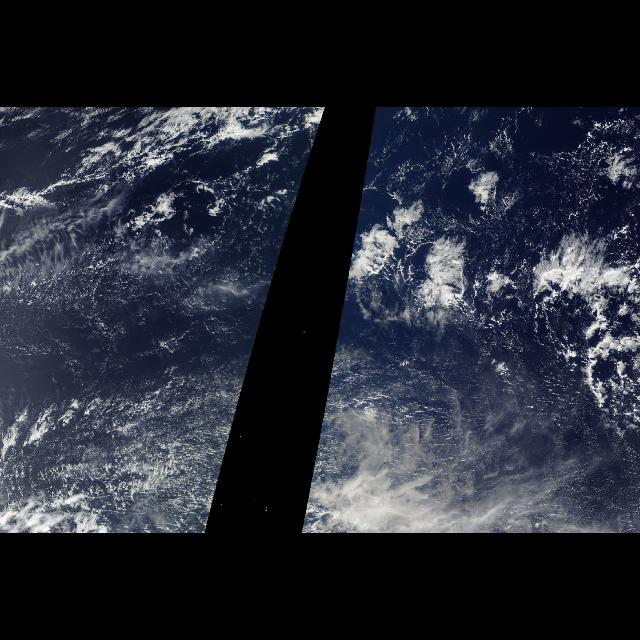Gravel: (382, 114, 640, 250), (5, 183, 276, 309)
Sugar: (0, 280, 246, 502), (310, 364, 588, 482)
